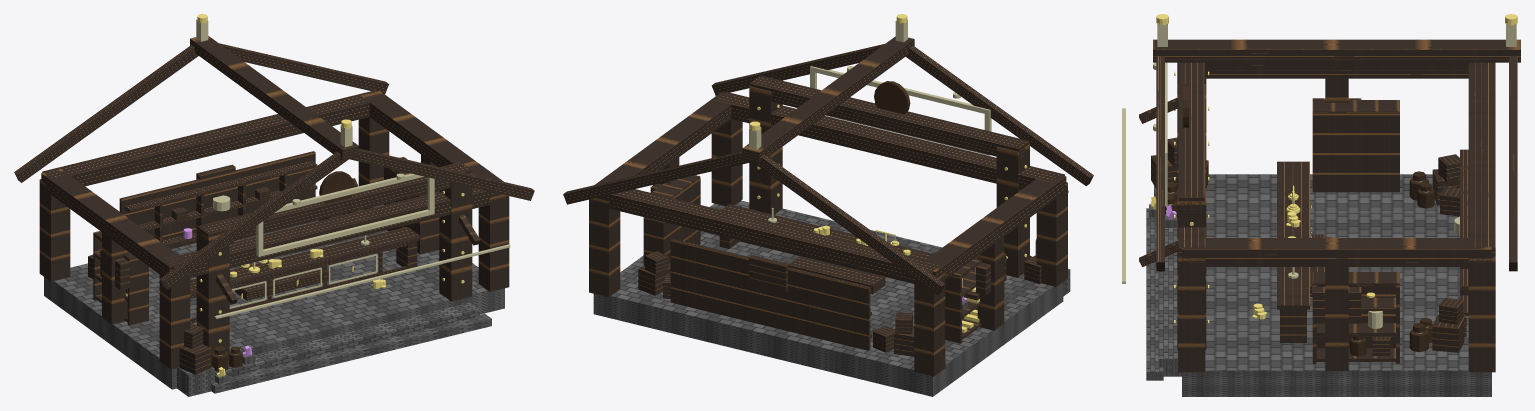
Rendered from Merchant_GroundedProps.fbx.
3 views of the same model, side by side, from view 1: azimuth 30°, elevation 25°; view 2: azimuth 150°, elevation 25°; view 3: azimuth 270°, elevation 25° (orthographic). The views are drawn at different scales.
Visible parts, largest first — view 1: Merchant_Timber, Merchant_Stone, Merchant_AntiqueGold, Merchant_BrightGold; view 2: Merchant_Timber, Merchant_Stone, Merchant_AntiqueGold, Merchant_BrightGold; view 3: Merchant_Timber, Merchant_Stone, Merchant_AntiqueGold, Merchant_BrightGold.
Part boxes in pixels (x1,y1,x2,y2): Merchant_Timber: [14, 36, 534, 374]; Merchant_Stone: [44, 204, 504, 396]; Merchant_AntiqueGold: [196, 19, 510, 355]; Merchant_BrightGold: [125, 14, 464, 377]; Merchant_Timber: [563, 36, 1093, 376]; Merchant_Stone: [593, 200, 1070, 396]; Merchant_AntiqueGold: [749, 19, 1068, 241]; Merchant_BrightGold: [749, 14, 1026, 332]; Merchant_Timber: [1139, 39, 1520, 372]; Merchant_Stone: [1146, 174, 1491, 396]; Merchant_AntiqueGold: [1122, 23, 1516, 341]; Merchant_BrightGold: [1151, 14, 1517, 323].
Bounding box in the file's own units: 5358 × 3215 × 4120.
5 materials, 2 textured.
